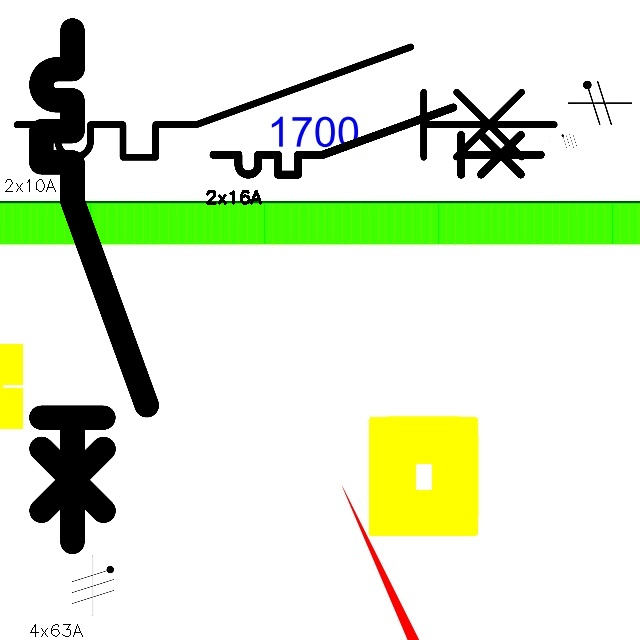interruptor_termomagnetico: (3, 33, 568, 171), (28, 17, 160, 555), (205, 99, 549, 183)
